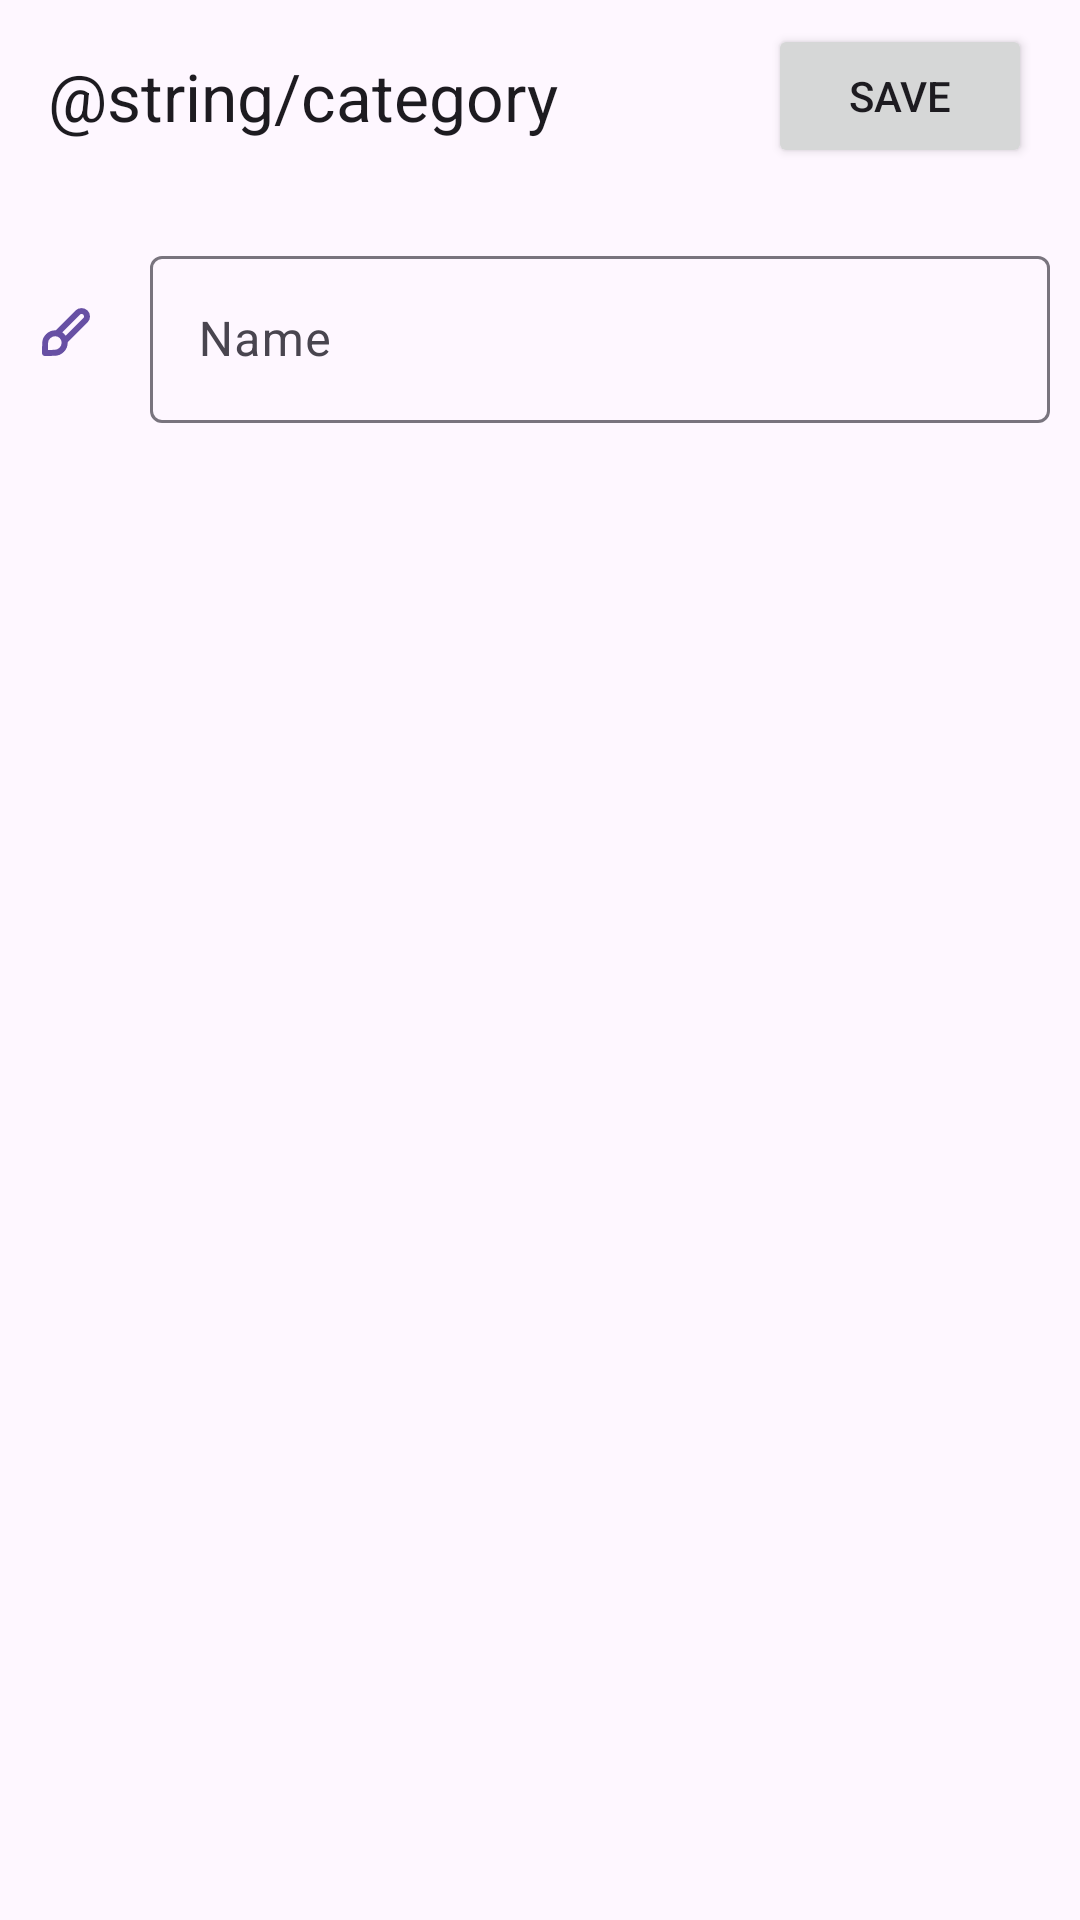

Icons on this 1080 × 1920 Android screen, each with the point to tap as (x,y):
brush: (66,332)
